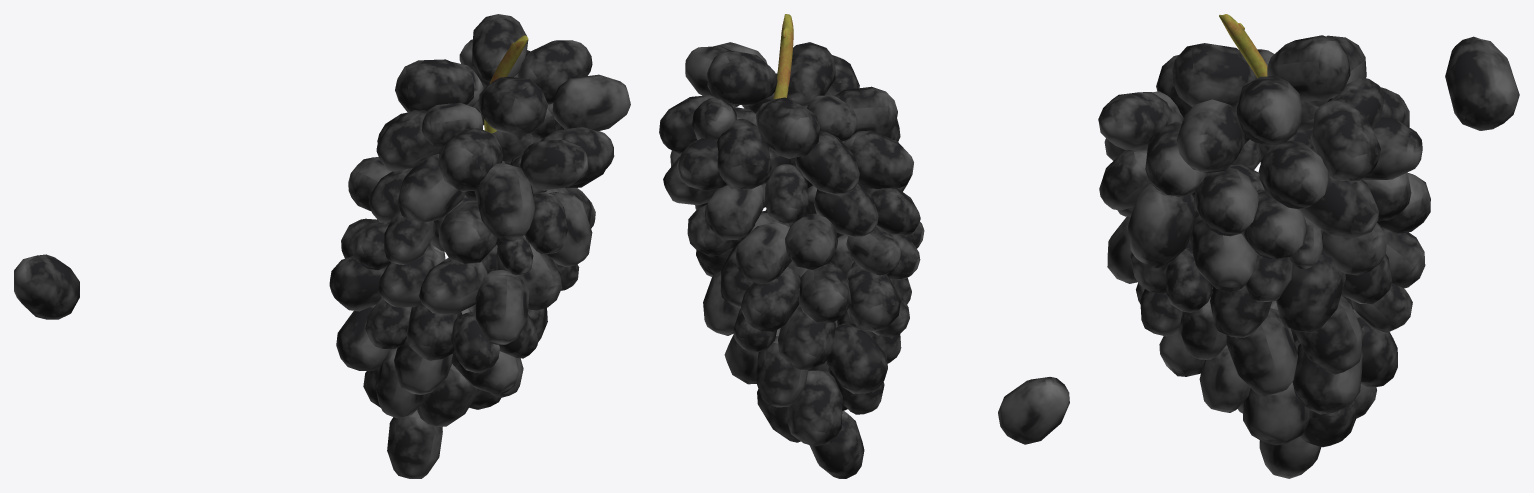
File: grapeLP.glb
3 renders of one model, left to right at view 1: azimuth 30°, elevation 25°; view 2: azimuth 150°, elevation 25°; view 3: azimuth 270°, elevation 25°, orthographic. The views are drawn at different scales.
Visible parts, largest first — view 1: lowPoly - copy.034, lowPoly - copy.031, lowPoly, lowPoly - copy.063, lowPoly - copy.017, lowPoly - copy.069, lowPoly - copy.066, lowPoly - copy.043, lowPoly - copy.014, lowPoly - copy.047, lowPoly - copy.050, lowPoly - copy.046 (+26 smaller); view 2: lowPoly, lowPoly - copy.020, lowPoly - copy.058, lowPoly - copy.025, lowPoly - copy.027, lowPoly - copy.063, lowPoly - copy.043, lowPoly - copy.060, lowPoly - copy.038, lowPoly - copy.021, lowPoly - copy.002, lowPoly - copy.001 (+31 smaller); view 3: lowPoly, lowPoly - copy.010, lowPoly - copy.026, lowPoly - copy.069, lowPoly - copy.033, lowPoly - copy.025, lowPoly - copy.031, lowPoly - copy.050, lowPoly - copy.037, lowPoly - copy.019, lowPoly - copy.013, lowPoly - copy.024 (+37 smaller).
Part boxes in pixels (x1,y1,x2,y2): lowPoly - copy.034: (474, 163, 535, 241); lowPoly - copy.031: (552, 74, 630, 131); lowPoly: (14, 254, 79, 319); lowPoly - copy.063: (395, 59, 474, 113); lowPoly - copy.017: (475, 270, 529, 344); lowPoly - copy.069: (478, 77, 547, 136); lowPoly - copy.066: (438, 128, 502, 191); lowPoly - copy.043: (397, 154, 465, 222); lowPoly - copy.014: (387, 410, 442, 478); lowPoly - copy.047: (419, 257, 487, 314); lowPoly - copy.050: (517, 40, 592, 104); lowPoly - copy.046: (520, 140, 588, 190); lowPoly: (998, 377, 1069, 444); lowPoly - copy.020: (786, 370, 842, 446); lowPoly - copy.058: (826, 323, 887, 393); lowPoly - copy.025: (707, 51, 777, 105); lowPoly - copy.027: (717, 118, 771, 189); lowPoly - copy.063: (756, 97, 819, 158); lowPoly - copy.043: (843, 130, 913, 188); lowPoly - copy.060: (795, 131, 859, 195); lowPoly - copy.038: (846, 264, 900, 331); lowPoly - copy.021: (741, 267, 800, 331); lowPoly - copy.002: (735, 222, 791, 284); lowPoly - copy.001: (778, 303, 836, 369); lowPoly: (1445, 36, 1519, 130); lowPoly - copy.010: (1128, 182, 1198, 268); lowPoly - copy.026: (1312, 100, 1380, 180); lowPoly - copy.069: (1172, 43, 1256, 108); lowPoly - copy.033: (1226, 308, 1297, 396); lowPoly - copy.025: (1267, 35, 1350, 101); lowPoly - copy.031: (1176, 99, 1246, 173); lowPoly - copy.050: (1235, 76, 1301, 145); lowPoly - copy.037: (1276, 250, 1345, 332); lowPoly - copy.019: (1259, 140, 1329, 209); lowPoly - copy.013: (1193, 167, 1259, 236); lowPoly - copy.024: (1300, 174, 1379, 238).
Size of the model in its own units: 0.177 by 0.1503 by 0.1124.
Materials: 2 (2 with a texture image).
